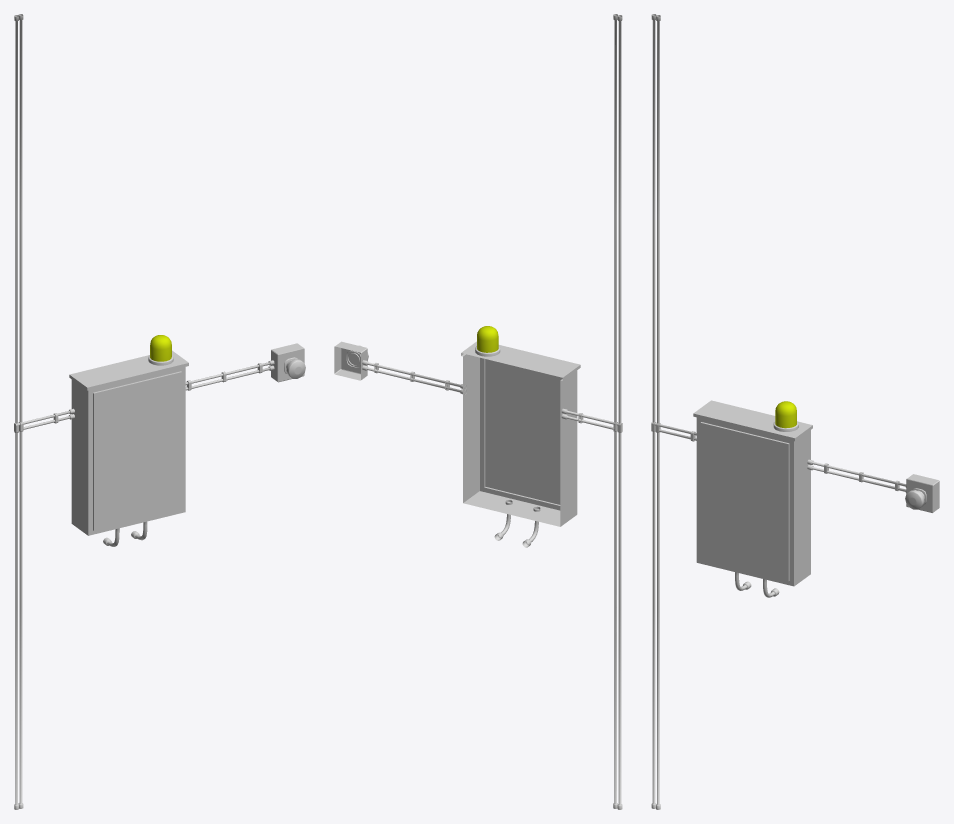
File: Electricity box.fbx
3 renders of one model, left to right at view 1: azimuth 30°, elevation 25°; view 2: azimuth 150°, elevation 25°; view 3: azimuth 330°, elevation 25°, orthographic.
Visible parts, largest first — view 1: Low poly Box.001; view 2: Low poly Box.001; view 3: Low poly Box.001.
Boxes of the visible parts, <box> form: Low poly Box.001: <box>14,14,305,809</box>; Low poly Box.001: <box>334,14,622,809</box>; Low poly Box.001: <box>651,14,939,809</box>.
Size of the model in its own units: 1.02 by 2.7 by 0.1118.
